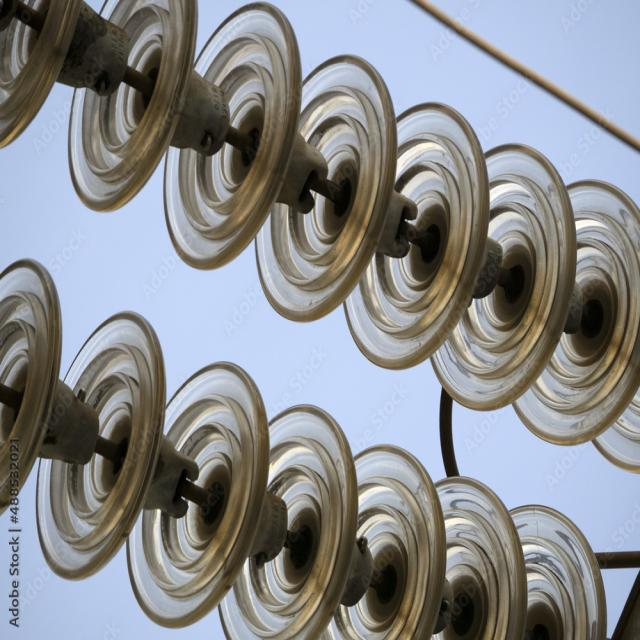insulator: (1, 256, 610, 626), (66, 18, 640, 358)
